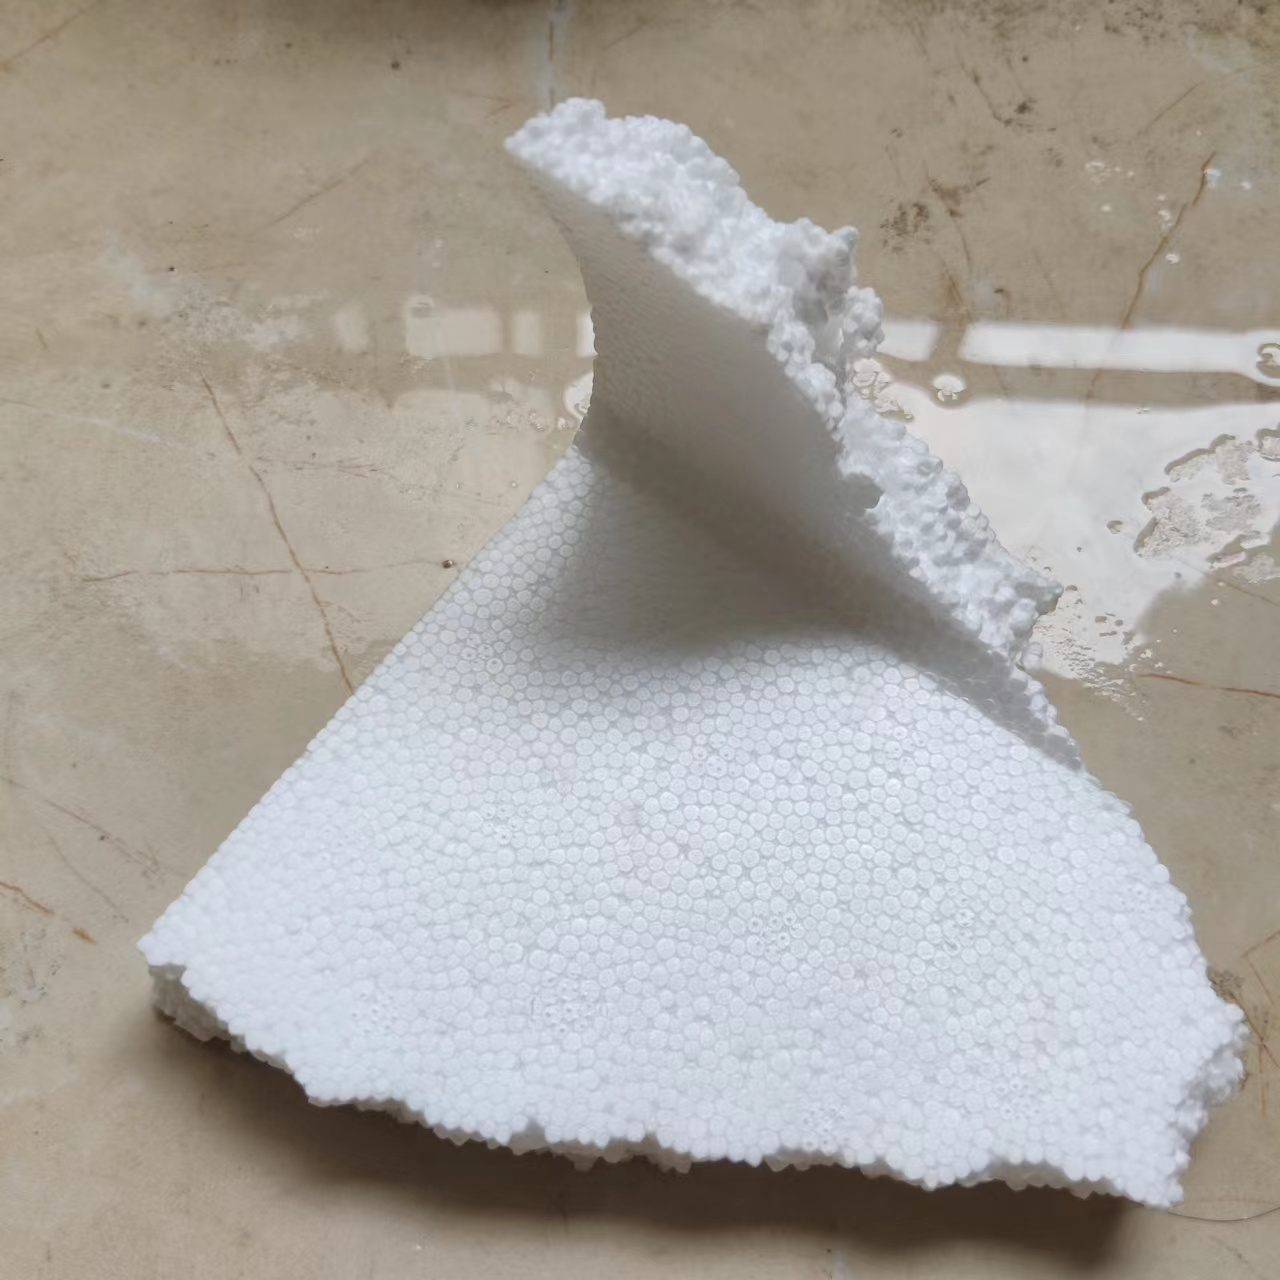5/可回收垃圾/泡沫: (135, 98, 1250, 1208)
